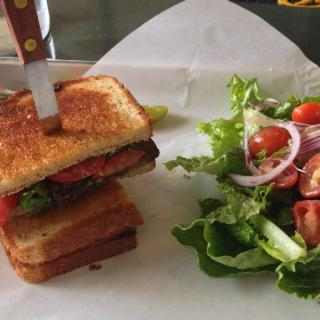tomato: (46, 153, 105, 180), (292, 199, 320, 245), (94, 151, 143, 177), (258, 158, 300, 188), (250, 127, 290, 157), (299, 153, 319, 196), (290, 100, 320, 126)
